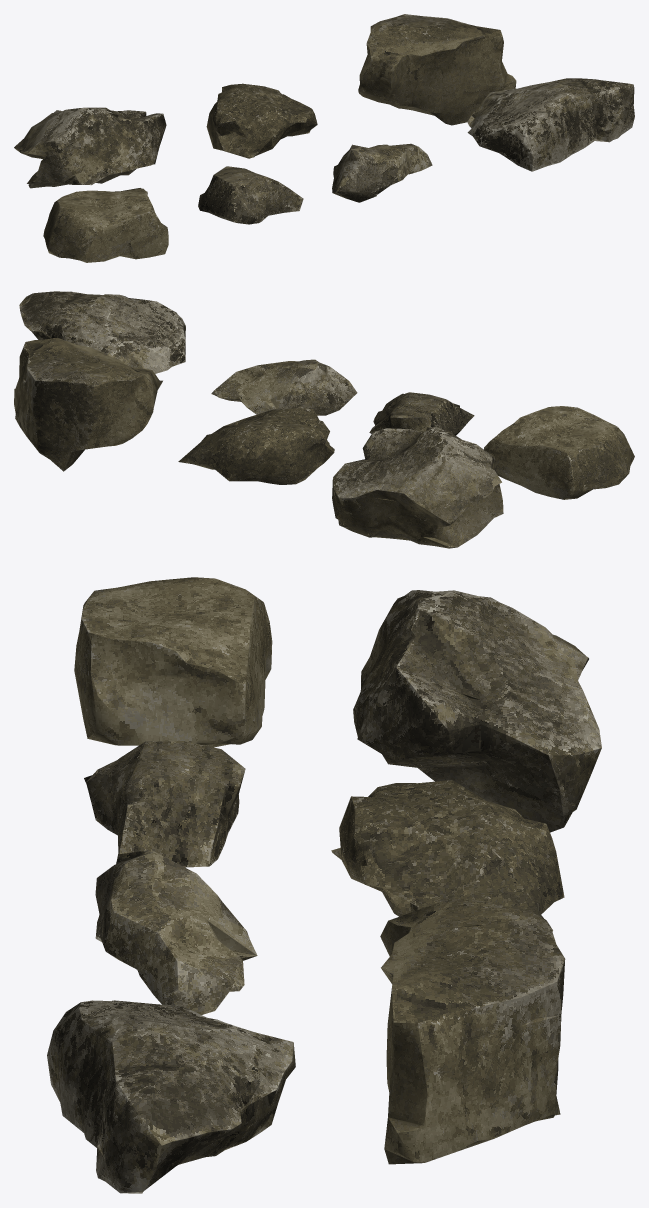
The model's file is rock_moss_set_02.glb.
The picture shows the model from 3 angles, top to bottom: view 1: azimuth 30°, elevation 25°; view 2: azimuth 150°, elevation 25°; view 3: azimuth 270°, elevation 25°; orthographic projection. The views are drawn at different scales.
Parts seen in each view (by area): view 1: mesh; view 2: mesh; view 3: mesh.
Boxes of the visible parts, <box> form: mesh: <box>14,14,634,262</box>; mesh: <box>14,291,634,548</box>; mesh: <box>47,577,601,1193</box>.
Bounding box in the file's own units: 8.43 × 1.37 × 3.47.
Materials: 1 (1 with a texture image).
